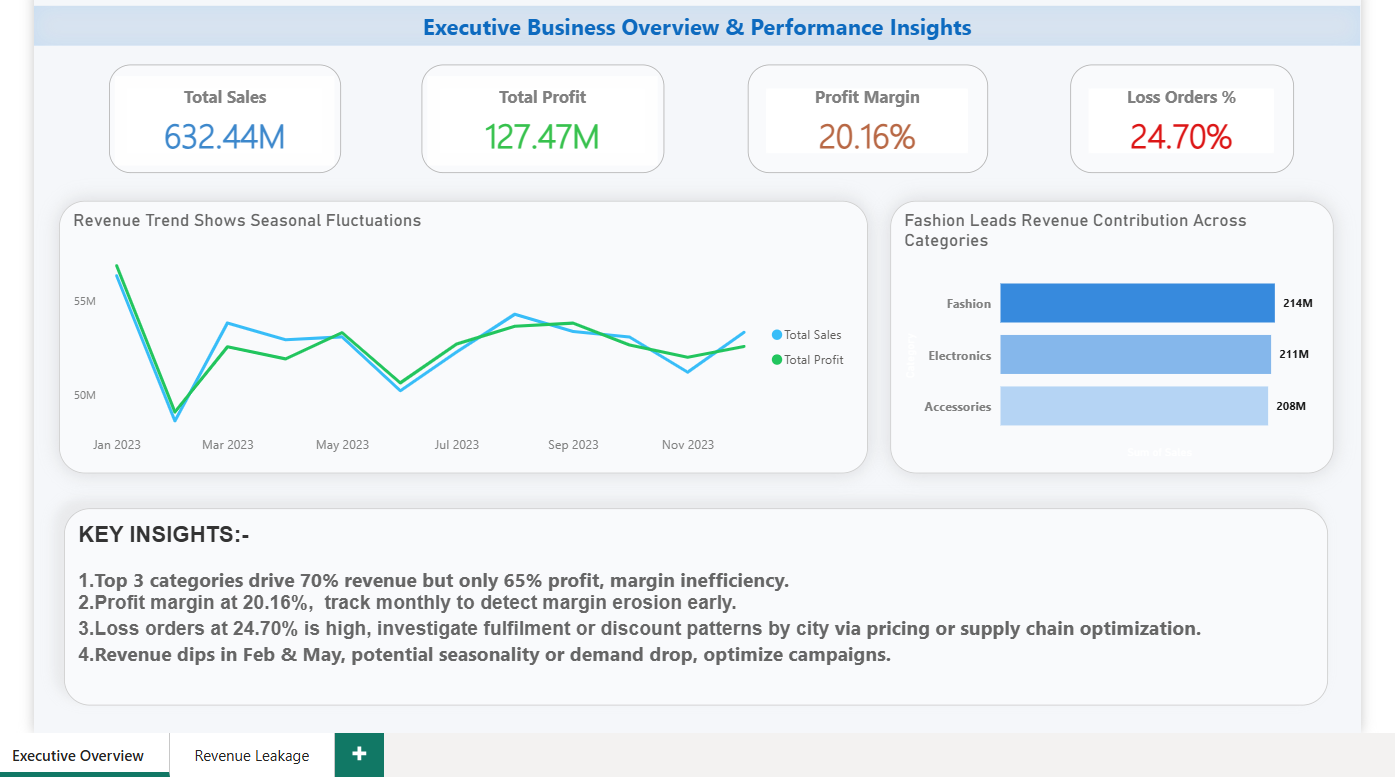

Layout of this report page (visuals, bound fields, positions):
{"tool":"powerbi","page":{"name":"Executive Overview","canvas":[1280,720],"ordinal":0},"visuals":[{"type":"cardVisual","fields":{"Data":["Sum(transactions.Sales)"]},"box":[72.4,74.8,224.4,105],"z":0},{"type":"lineChart","title":"Revenue Trend Shows Seasonal Fluctuations","fields":{"Y":["Sum(transactions.Sales)"],"Category":["transactions.Order_Date.Variation.Date Hierarchy.Year","transactions.Order_Date.Variation.Date Hierarchy.Month"],"Y2":["Sum(transactions.Profit)"]},"box":[24.1,206.3,780.6,263],"z":1000},{"type":"cardVisual","fields":{"Data":["Sum(transactions.Profit)"]},"box":[374,74.8,234,105],"z":5000},{"type":"cardVisual","fields":{"Data":["customers.Loss Orders %"]},"box":[1000.1,74.8,216,105],"z":6000},{"type":"cardVisual","fields":{"Data":["customers.Profit Margin"]},"box":[688.9,74.8,231.6,105],"z":7000},{"type":"barChart","title":"Fashion Leads Revenue Contribution Across Categories","fields":{"Category":["transactions.Category"],"Y":["Sum(transactions.Sales)"]},"box":[826.4,206.3,428.3,263],"z":8000},{"type":"textbox","box":[0,18.1,1280,38.6],"z":9000},{"type":"textbox","box":[29,503.1,1219.7,183.4],"z":10000}]}

Visuals, with their boxes on the page's 1280x720 design canvas (x1, y1, x2, y2). These are canvas units, not pixel positions in the 1395x777 screenshot, which may show the page scaled, cropped or inside an application window:
cardVisual - Sum(transactions.Sales): box=[72, 75, 297, 180]
"Revenue Trend Shows Seasonal Fluctuations" lineChart: box=[24, 206, 805, 469]
cardVisual - Sum(transactions.Profit): box=[374, 75, 608, 180]
cardVisual - customers.Loss Orders %: box=[1000, 75, 1216, 180]
cardVisual - customers.Profit Margin: box=[689, 75, 920, 180]
"Fashion Leads Revenue Contribution Across Categories" barChart: box=[826, 206, 1255, 469]
textbox: box=[0, 18, 1280, 57]
textbox: box=[29, 503, 1249, 686]
